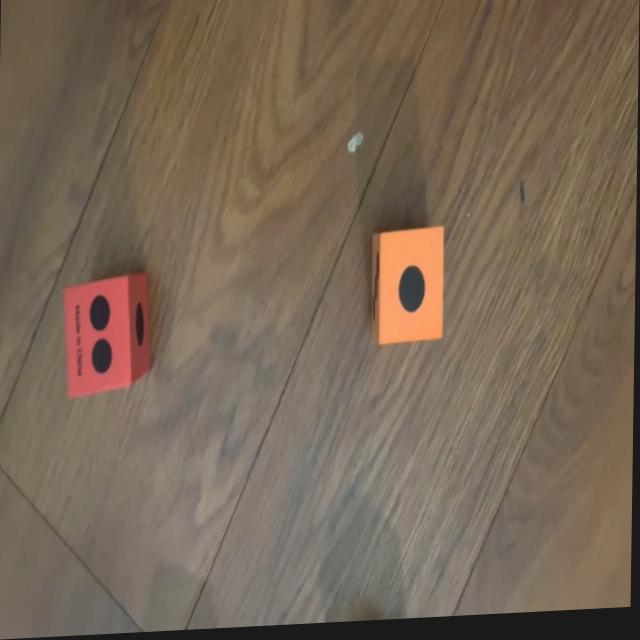cube: (61, 271, 153, 399)
